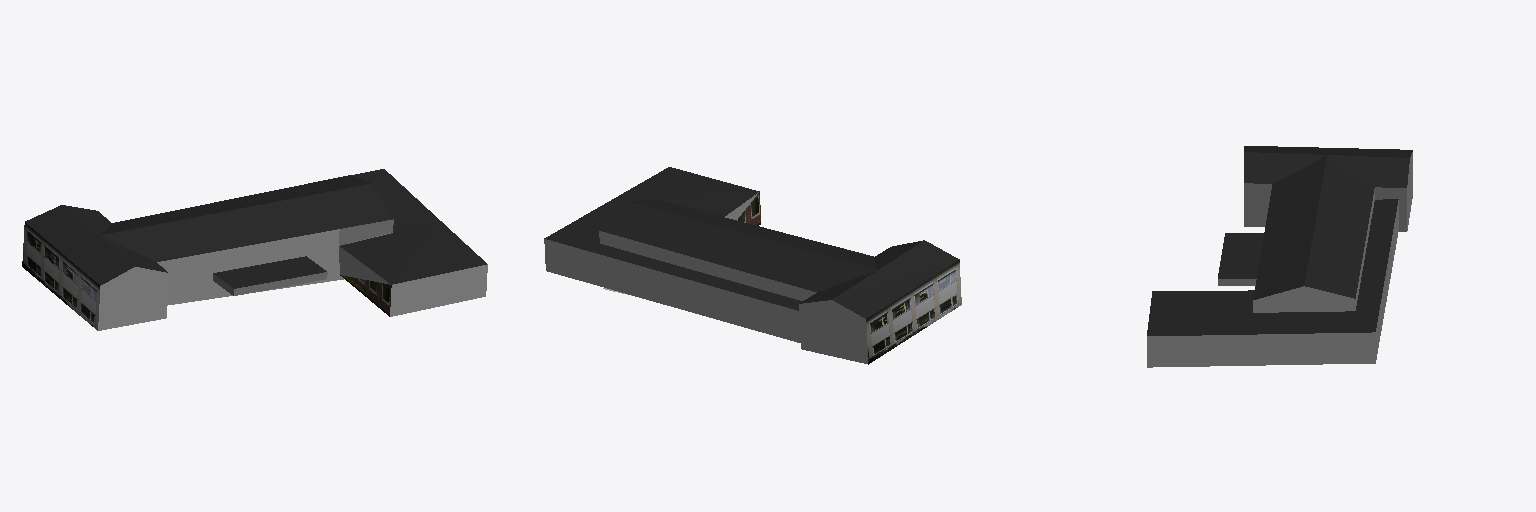
3 views of the same model, side by side, from view 1: azimuth 30°, elevation 25°; view 2: azimuth 150°, elevation 25°; view 3: azimuth 270°, elevation 25° (orthographic).
Visible parts, largest first — view 1: SketchUp.006_ID75, SketchUp.008_ID87, SketchUp.003_ID48, SketchUp.002_ID25, SketchUp.014_ID139, SketchUp.022_ID222, SketchUp_ID2, SketchUp.011_ID114, SketchUp.007_ID81, SketchUp.012_ID127, SketchUp.013_ID133, SketchUp.010_ID106; view 2: SketchUp.006_ID75, SketchUp.009_ID93, SketchUp.003_ID48, SketchUp.022_ID222, SketchUp.007_ID81, SketchUp.008_ID87, SketchUp.016_ID158, SketchUp.005_ID62, SketchUp.002_ID25; view 3: SketchUp.006_ID75, SketchUp.019_ID190, SketchUp.007_ID81, SketchUp.003_ID48, SketchUp.008_ID87, SketchUp.018_ID177, SketchUp.012_ID127, SketchUp.023_ID235, SketchUp.009_ID93, SketchUp.021_ID216.
Boxes of the visible parts, x1,y1,x2,y2 form: SketchUp.006_ID75: [99, 175, 392, 261]; SketchUp.008_ID87: [340, 220, 486, 284]; SketchUp.003_ID48: [25, 205, 167, 285]; SketchUp.002_ID25: [339, 246, 487, 316]; SketchUp.014_ID139: [211, 229, 392, 298]; SketchUp.022_ID222: [22, 222, 99, 330]; SketchUp_ID2: [98, 267, 168, 330]; SketchUp.011_ID114: [157, 252, 212, 305]; SketchUp.007_ID81: [350, 169, 438, 231]; SketchUp.012_ID127: [213, 256, 326, 288]; SketchUp.013_ID133: [213, 272, 327, 295]; SketchUp.010_ID106: [339, 219, 393, 245]; SketchUp.006_ID75: [599, 200, 877, 291]; SketchUp.009_ID93: [544, 239, 800, 342]; SketchUp.003_ID48: [800, 240, 959, 318]; SketchUp.022_ID222: [866, 260, 961, 364]; SketchUp.007_ID81: [544, 200, 802, 310]; SketchUp.008_ID87: [612, 167, 759, 216]; SketchUp.016_ID158: [799, 300, 867, 363]; SketchUp.005_ID62: [599, 231, 816, 300]; SketchUp.002_ID25: [725, 192, 760, 225]; SketchUp.006_ID75: [1253, 155, 1374, 299]; SketchUp.019_ID190: [1147, 332, 1375, 367]; SketchUp.007_ID81: [1253, 199, 1398, 334]; SketchUp.003_ID48: [1244, 146, 1412, 187]; SketchUp.008_ID87: [1147, 290, 1254, 335]; SketchUp.018_ID177: [1253, 286, 1355, 312]; SketchUp.012_ID127: [1218, 233, 1263, 278]; SketchUp.023_ID235: [1244, 183, 1271, 226]; SketchUp.009_ID93: [1376, 200, 1398, 359]; SketchUp.021_ID216: [1375, 187, 1406, 231].
Bounding box in the file's own units: 57.51 × 11.38 × 37.74.
17 materials, 3 textured.